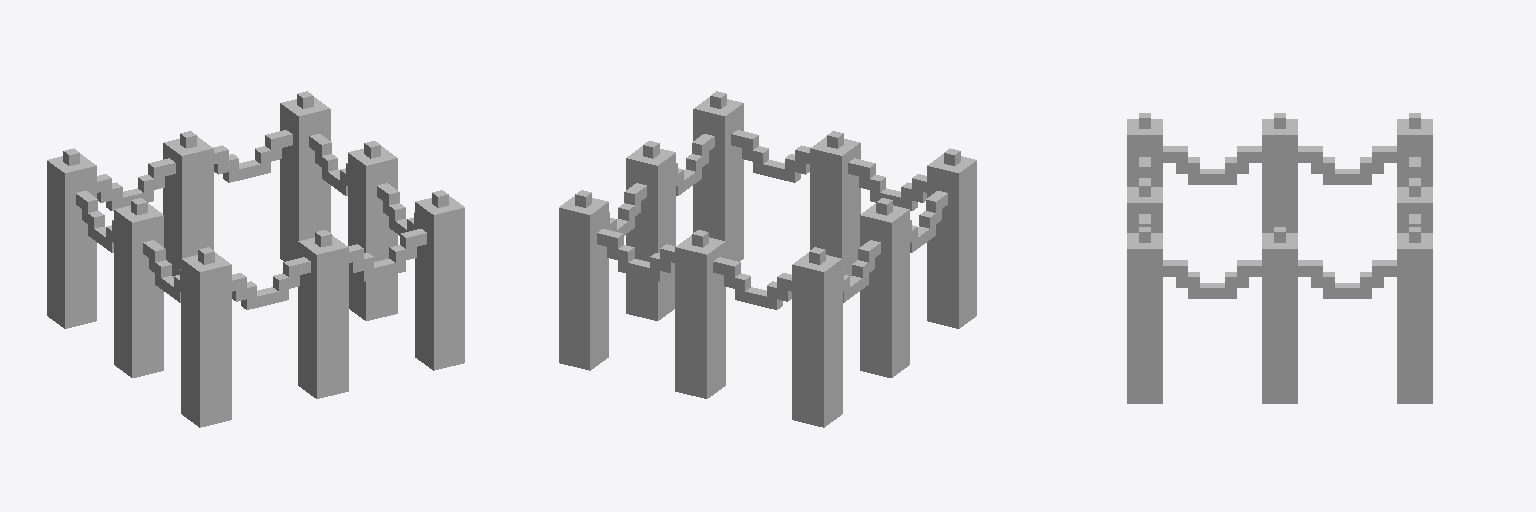
File: Construction Zone.obj
The picture shows the model from 3 angles: view 1: azimuth 30°, elevation 25°; view 2: azimuth 150°, elevation 25°; view 3: azimuth 270°, elevation 25°; orthographic projection.
Parts seen in each view (by area): view 1: object 1; view 2: object 1; view 3: object 1.
Part boxes in pixels (x1,y1,x2,y2): object 1: (47, 91, 464, 427); object 1: (559, 91, 976, 427); object 1: (1127, 113, 1432, 403).
Size of the model in its own units: 2.5 by 1.5 by 2.5.